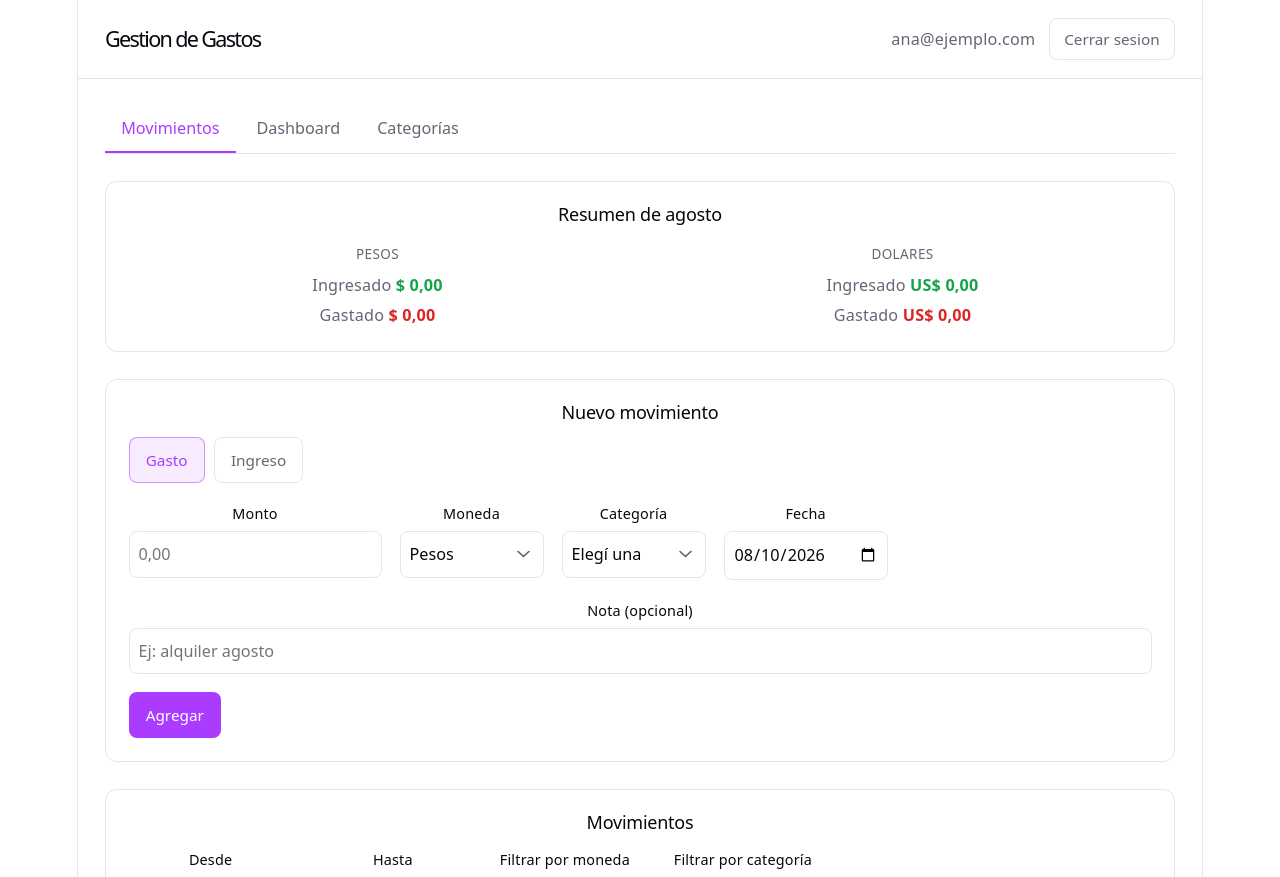
Test case: formulario de carga (RF-10 a RF-13) › AC-18: sin categoría no se guarda nada y se muestra el motivo
expect the heading "Nuevo movimiento" is shown: met, box [562,400,718,424]
In the field labelled "Monto": (255, 555) [128,532,382,578], type "1500"
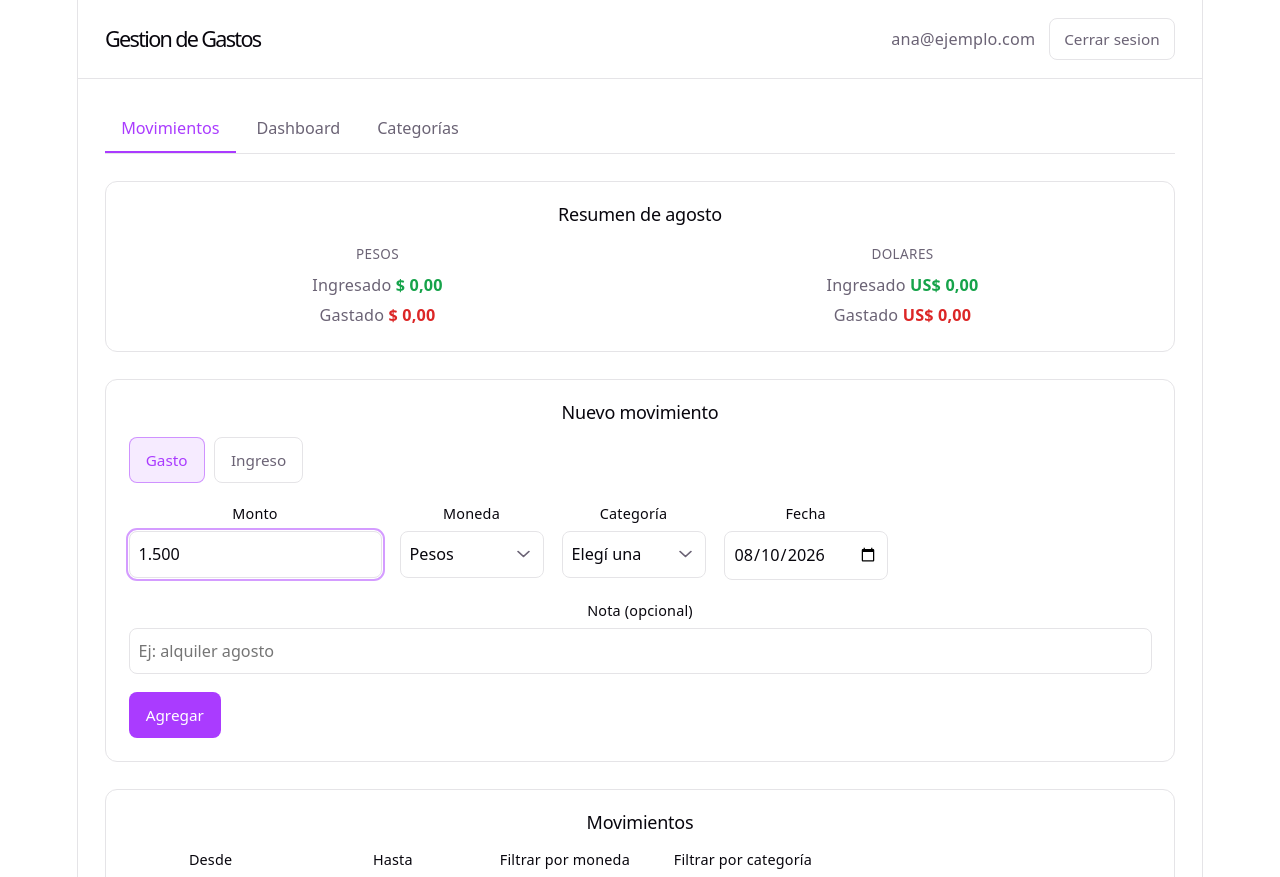
Click the button "Agregar": click(175, 715) [128,692,221,738]
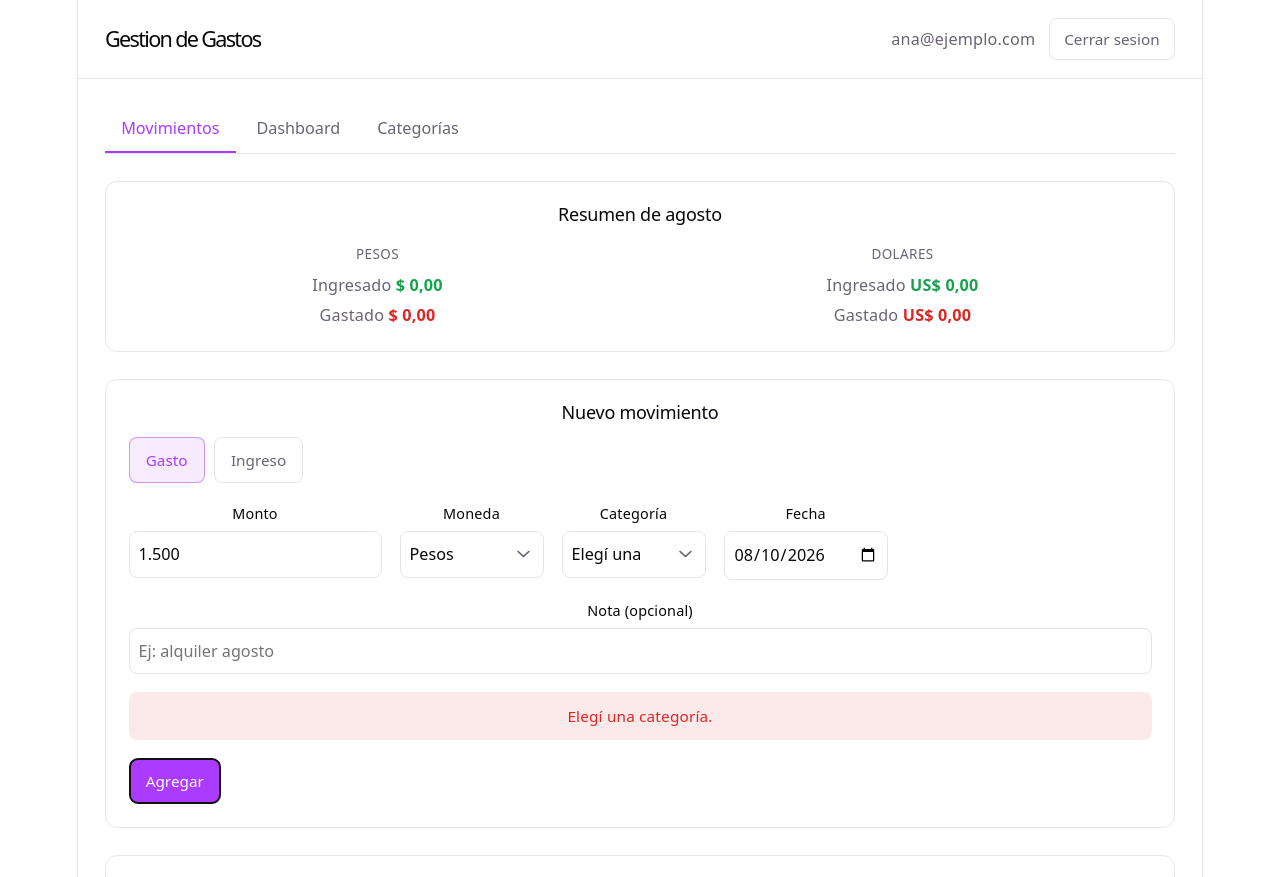
expect the message reads "Elegí una categoría.": met, box [567,706,713,726]
